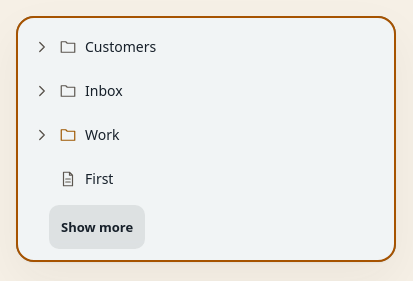
Test: NotesTree › pages a long folder and keeps what was already shown
Click the button "Show more" at coordinates (97, 227), box [49, 205, 145, 249]
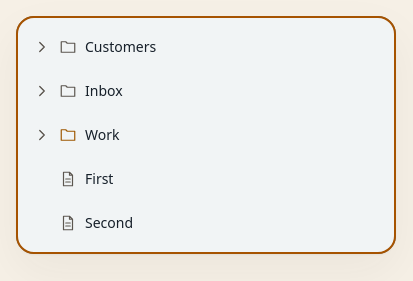
Expected: the list item "First" is shown, [59, 169, 113, 188]
Expected: the list item "Second" is shown, [59, 213, 133, 232]
Expected: the button "Show more" is gone
